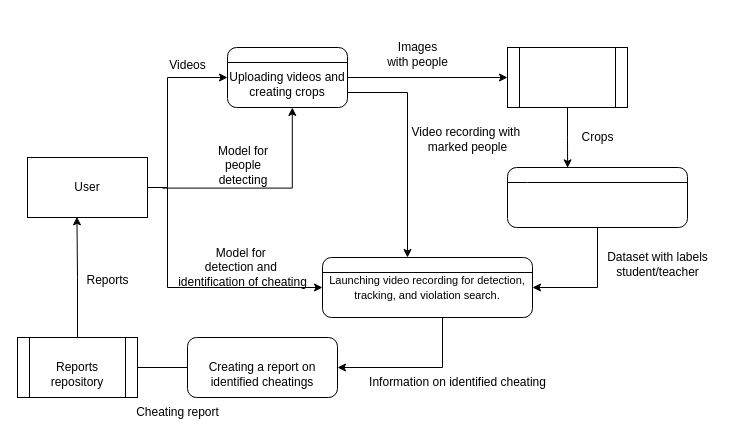
This 735x444 diagram has some shape labels left out. Each missing label, with the box of its shape:
Manual annotation of who is the teacher: (506, 166, 688, 228)
хранилище изображений: (506, 46, 628, 108)
